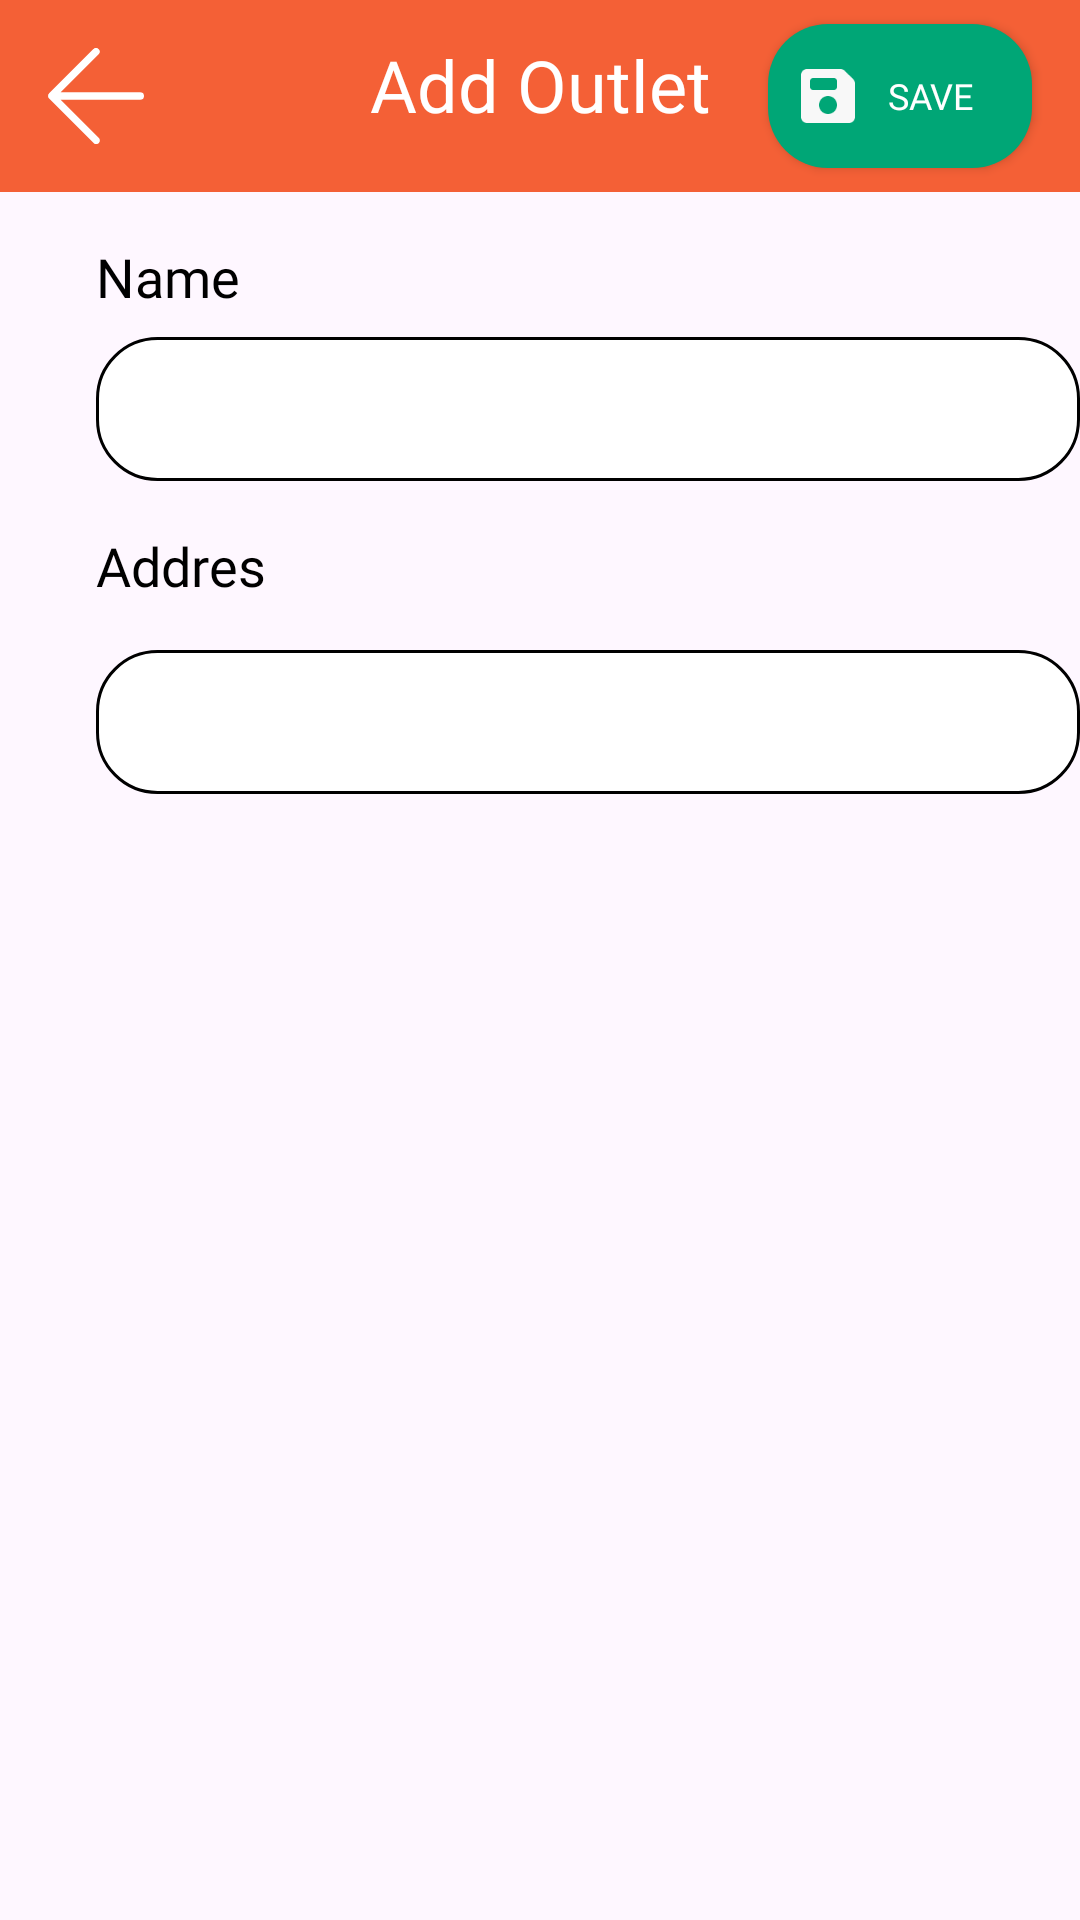

Named icons in this screenshot (1080x1920) and their centers, (x=x, y=y):
Back: (x=96, y=96)
